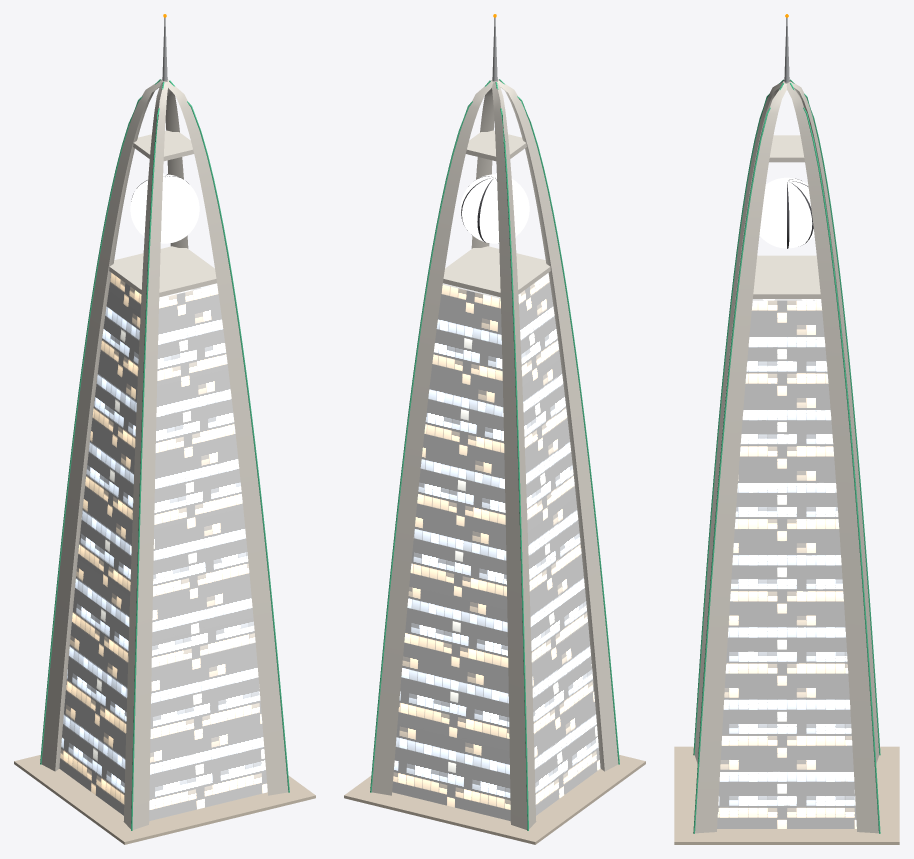
Rendered from SM_AlFaisaliah.fbx.
3 views of the same model, side by side, from view 1: azimuth 30°, elevation 25°; view 2: azimuth 150°, elevation 25°; view 3: azimuth 270°, elevation 25° (orthographic). The views are drawn at different scales.
Parts seen in each view (by area): view 1: SM_AlFaisaliah; view 2: SM_AlFaisaliah; view 3: SM_AlFaisaliah.
Boxes of the visible parts, x1=… form: SM_AlFaisaliah: x1=14, y1=14, x2=315, y2=844; SM_AlFaisaliah: x1=344, y1=14, x2=645, y2=844; SM_AlFaisaliah: x1=674, y1=14, x2=899, y2=844.
Size of the model in its own units: 7000 by 26812 by 7000.
